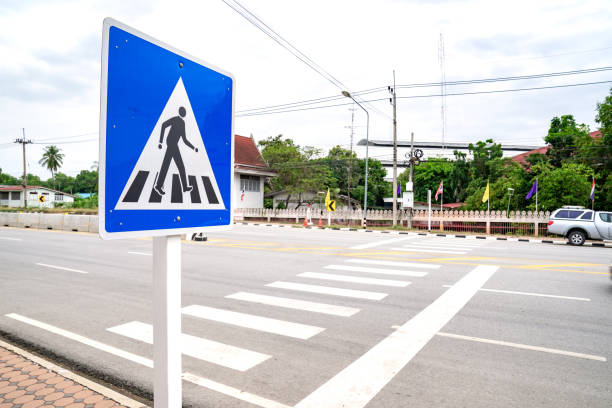otomobil: (543, 191, 611, 255)
yaya_gecidi: (99, 19, 234, 237)
